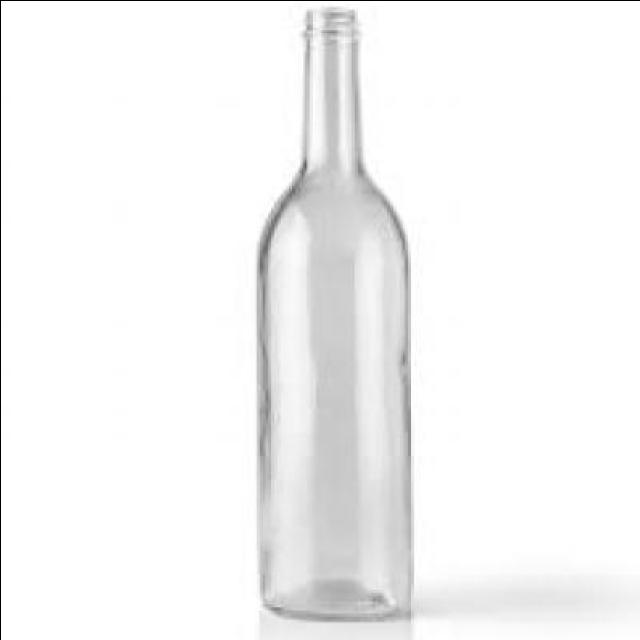kaca: (256, 4, 407, 618)
